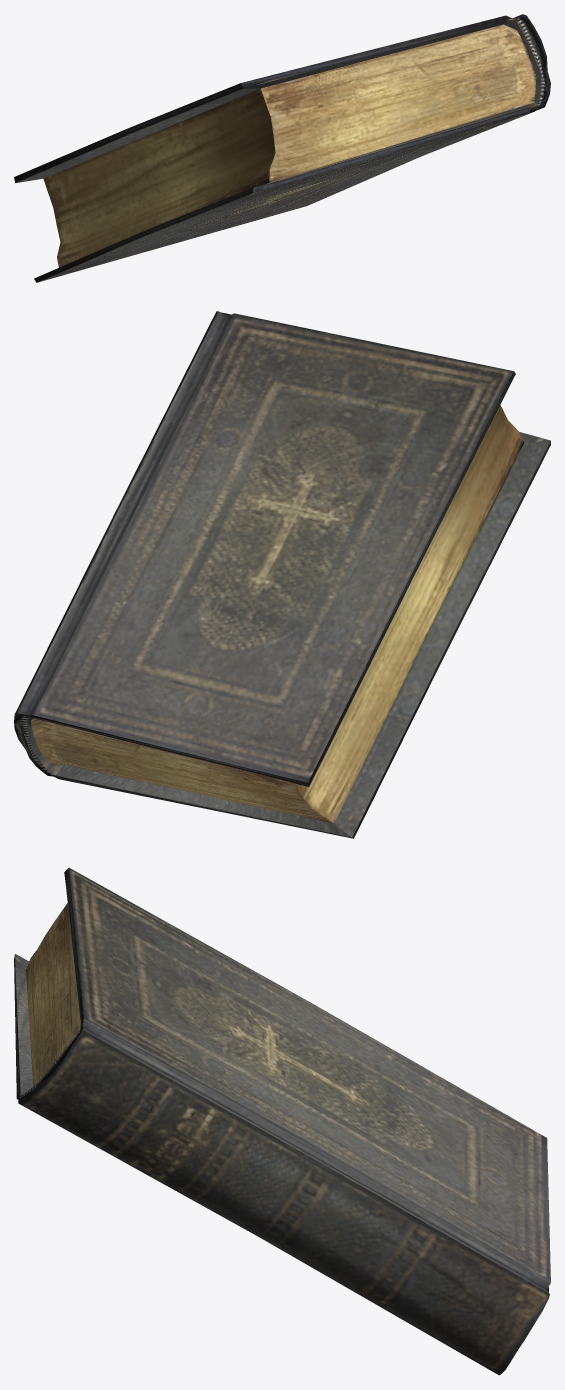
Rendered from bible.obj.
The picture shows the model from 3 angles, top to bottom: view 1: azimuth 30°, elevation 25°; view 2: azimuth 150°, elevation 25°; view 3: azimuth 270°, elevation 25°; orthographic projection. The views are drawn at different scales.
Visible parts, largest first — view 1: Object_4; view 2: Object_4; view 3: Object_4.
Part boxes in pixels (x1,y1,x2,y2): Object_4: (14,14,550,282); Object_4: (14,311,550,838); Object_4: (14,867,550,1375).
Size of the model in its own units: 3.25 by 3.17 by 4.25.
1 material, 1 textured.
